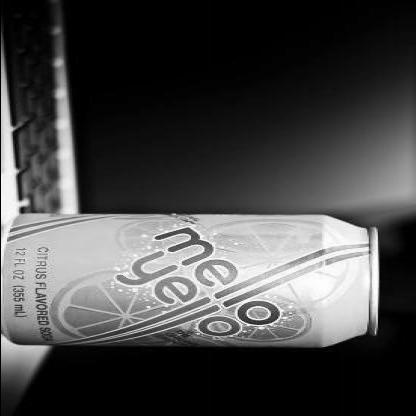alumunium_can: (0, 211, 380, 349)
